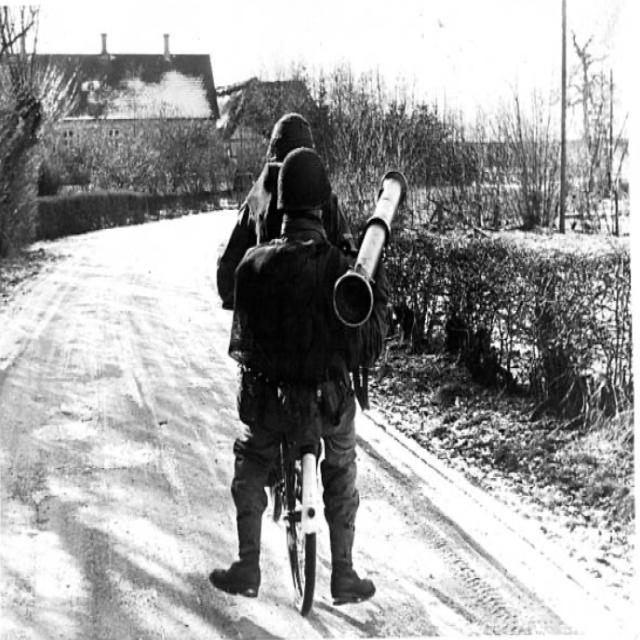bazooka: (333, 167, 424, 341)
